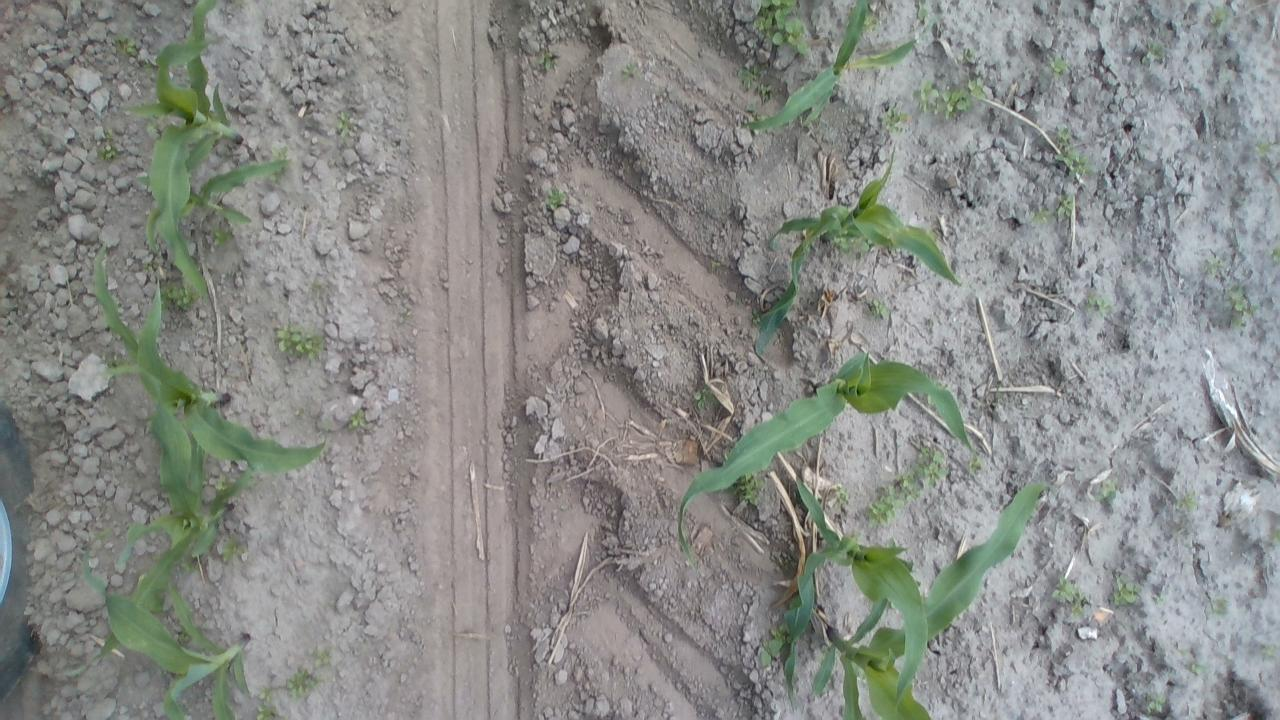Maize: (675, 348, 982, 577), (60, 361, 258, 680), (811, 480, 1061, 717), (93, 246, 338, 470), (749, 143, 966, 363), (120, 0, 270, 304), (778, 468, 934, 714), (82, 524, 257, 720), (738, 0, 926, 135), (132, 146, 292, 260), (254, 703, 278, 720)
Weeds: (863, 444, 952, 522), (749, 0, 811, 56), (914, 75, 986, 120), (274, 323, 329, 364), (1054, 126, 1094, 176), (1050, 576, 1088, 618), (1226, 284, 1258, 332), (758, 620, 788, 668), (282, 666, 322, 698), (739, 60, 770, 98), (161, 282, 197, 312), (1048, 192, 1082, 223), (736, 474, 764, 508), (94, 128, 121, 162), (881, 102, 907, 136), (333, 107, 358, 142), (1110, 576, 1138, 607), (1084, 286, 1114, 314), (1091, 478, 1121, 506), (692, 382, 718, 414), (208, 222, 236, 250), (766, 552, 798, 575), (1207, 4, 1235, 30), (219, 536, 246, 562), (1204, 594, 1230, 620), (1170, 491, 1197, 516), (115, 32, 142, 57), (346, 410, 372, 435), (912, 1, 938, 26), (304, 275, 329, 301), (1028, 197, 1052, 224), (310, 644, 336, 668), (1142, 41, 1168, 64), (1049, 55, 1072, 80), (964, 450, 986, 476), (534, 49, 558, 72), (1201, 254, 1224, 278), (1144, 695, 1170, 716), (859, 8, 882, 31), (865, 298, 891, 318), (268, 142, 291, 164), (956, 44, 980, 65), (546, 185, 566, 210), (393, 306, 415, 328), (214, 468, 236, 490), (252, 703, 281, 719), (835, 483, 851, 510), (1254, 138, 1274, 159), (254, 685, 276, 704), (1264, 243, 1280, 268), (832, 234, 853, 253), (620, 60, 638, 80), (745, 103, 763, 122), (854, 243, 874, 260), (141, 260, 161, 277), (180, 556, 197, 576), (140, 58, 158, 76), (1186, 659, 1204, 676), (1260, 643, 1276, 662), (1265, 525, 1280, 545), (749, 305, 761, 328), (923, 315, 936, 336), (1152, 590, 1168, 606), (709, 258, 724, 274), (294, 407, 308, 419), (736, 295, 748, 307), (234, 0, 248, 9)
